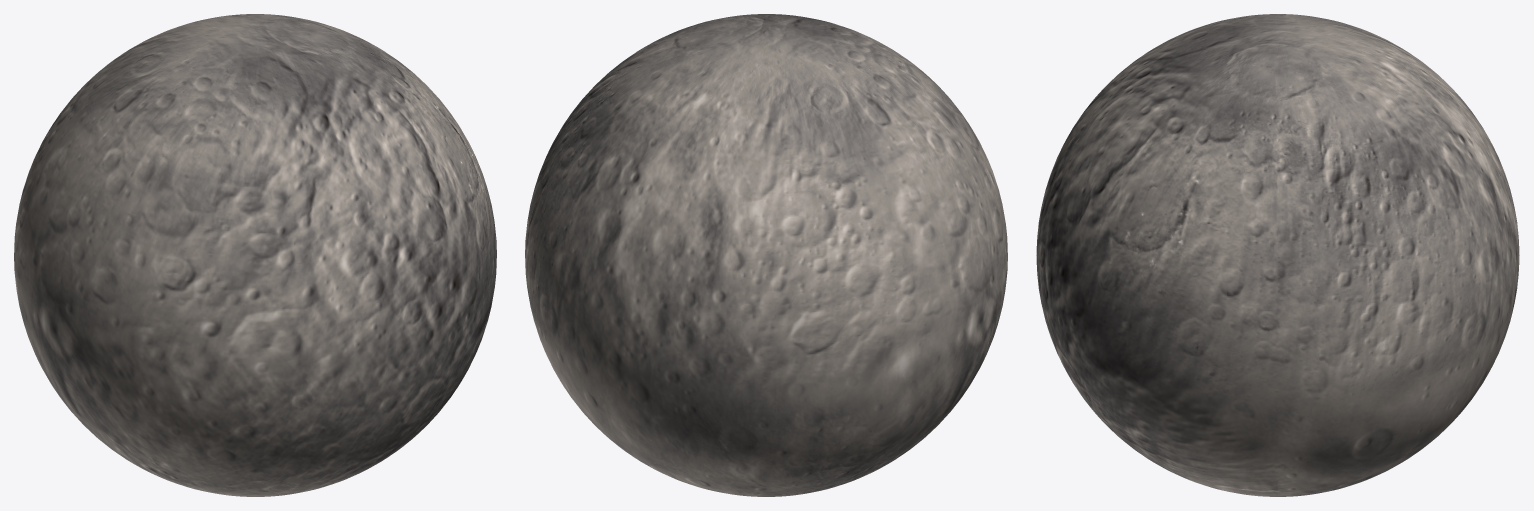
Rendered from umbriel.glb.
The picture shows the model from 3 angles, left to right: view 1: azimuth 30°, elevation 25°; view 2: azimuth 150°, elevation 25°; view 3: azimuth 270°, elevation 25°; orthographic projection.
Parts seen in each view (by area): view 1: Esfera; view 2: Esfera; view 3: Esfera.
Part boxes in pixels (x1,y1,x2,y2): Esfera: (14,14,496,496); Esfera: (525,14,1007,496); Esfera: (1036,14,1519,496).
Bounding box in the file's own units: 2000 × 2000 × 2000.
Materials: 1 (1 with a texture image).
